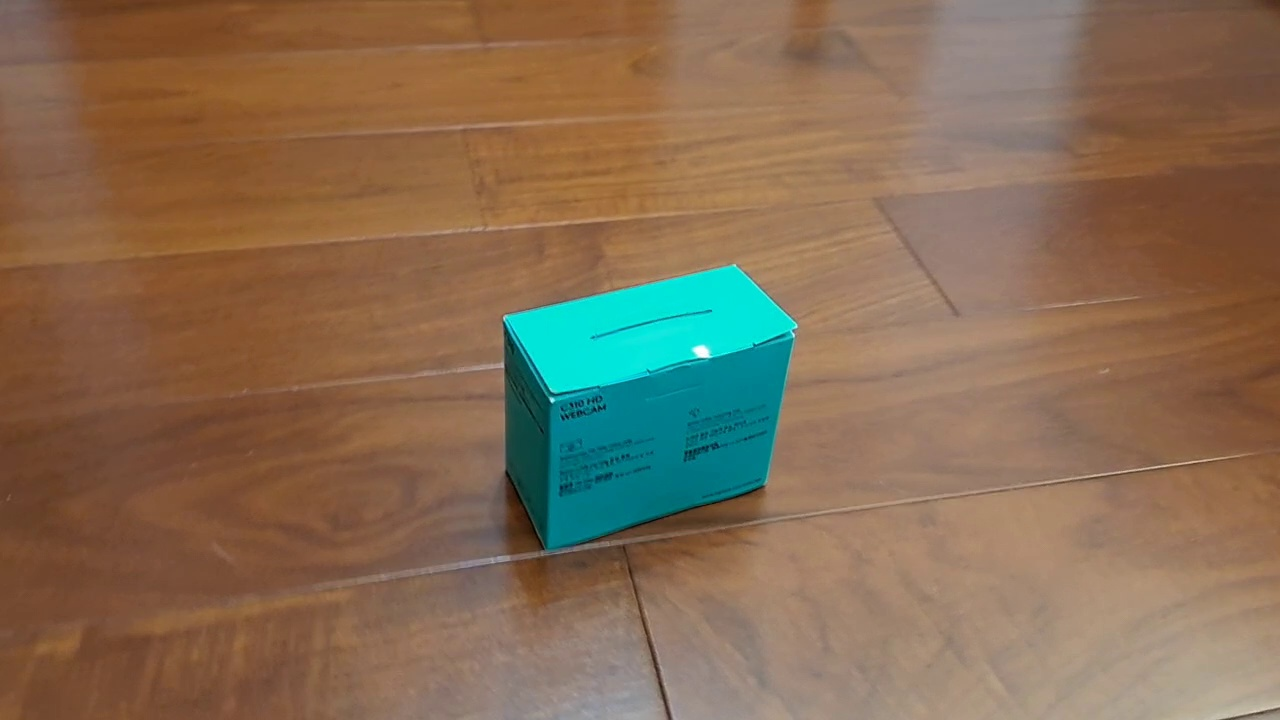webcam: (500, 262, 799, 556)
